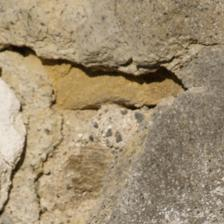Crack: (150, 0, 223, 77), (66, 0, 124, 73)
